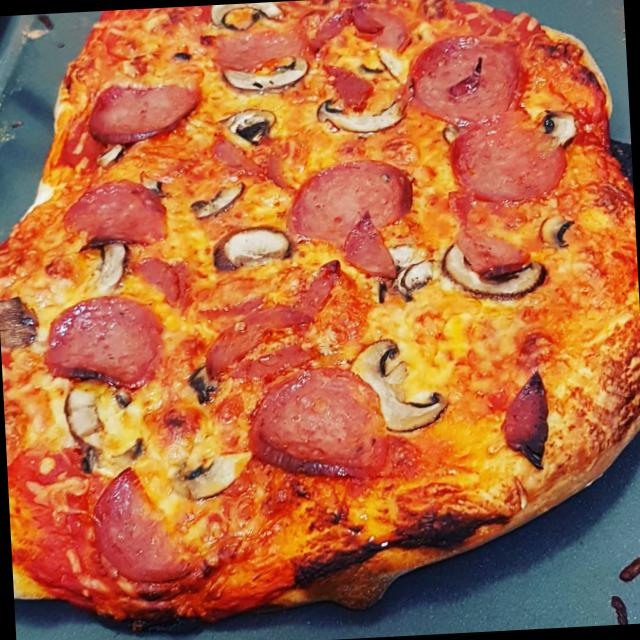mushrooms: (352, 336, 448, 442), (65, 368, 141, 478), (166, 416, 252, 504), (438, 237, 544, 305), (312, 84, 403, 138), (213, 55, 323, 98), (76, 233, 143, 300), (210, 222, 291, 270), (391, 244, 442, 296), (224, 104, 281, 148), (0, 294, 41, 353), (212, 1, 284, 32), (192, 177, 240, 221), (362, 45, 412, 85), (541, 104, 582, 143), (539, 210, 572, 252), (135, 166, 162, 198), (96, 138, 123, 170), (437, 120, 463, 144)
pepperoni: (238, 361, 396, 492), (283, 151, 422, 247), (446, 109, 574, 211), (44, 291, 166, 398), (89, 461, 194, 583), (411, 30, 528, 128), (56, 176, 170, 252), (88, 76, 204, 142), (208, 296, 309, 368), (307, 1, 412, 66), (490, 366, 553, 466), (216, 130, 310, 197), (210, 24, 306, 76), (300, 260, 354, 332), (140, 254, 186, 310)
pizza: (0, 0, 640, 634)
